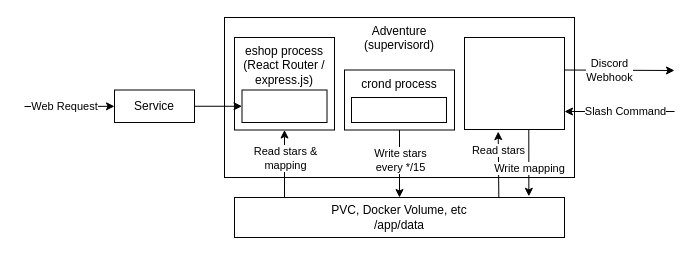
The diagram is 700 pixels wide and 255 high, and some of its shapes have lost their labels. Here are the shapes that lost their labels. From the top down, the centre of each, then its label:
At point 514,83: "notifier process (hikari / hikari-crescent)".
At point 284,105: "Web handler".
At point 398,109: "fetch AoC stars".
